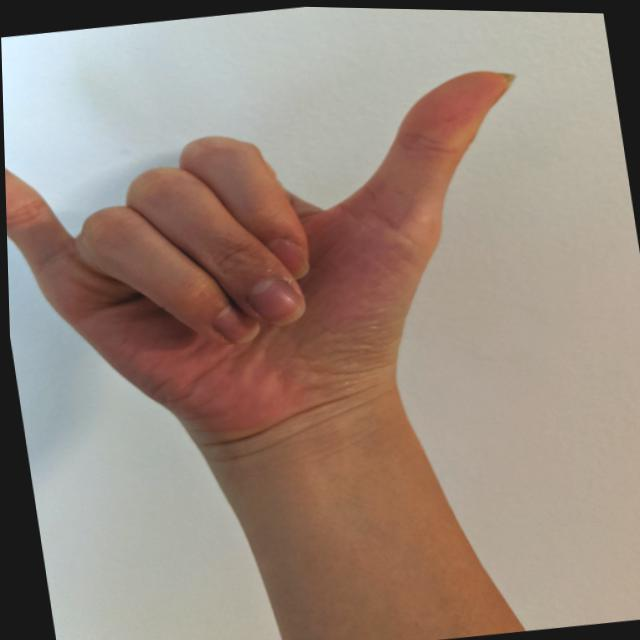Y: (1, 43, 573, 471)
